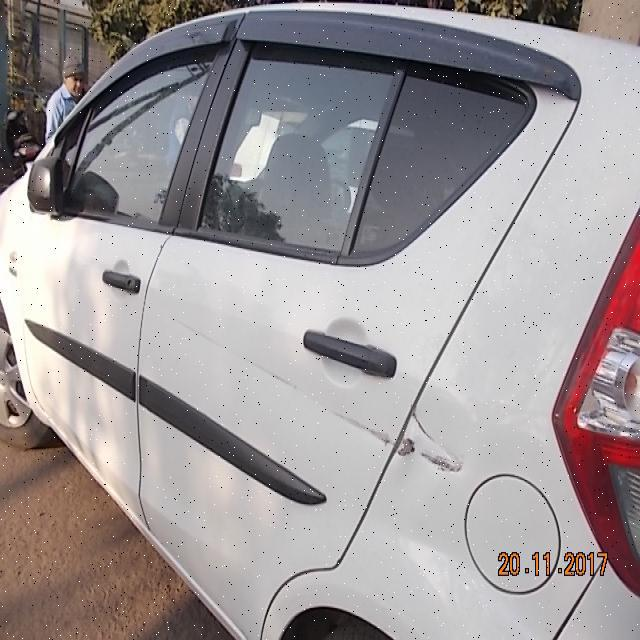doorouter-dent: (143, 239, 388, 600)
quaterpanel-dent: (389, 326, 577, 634)
